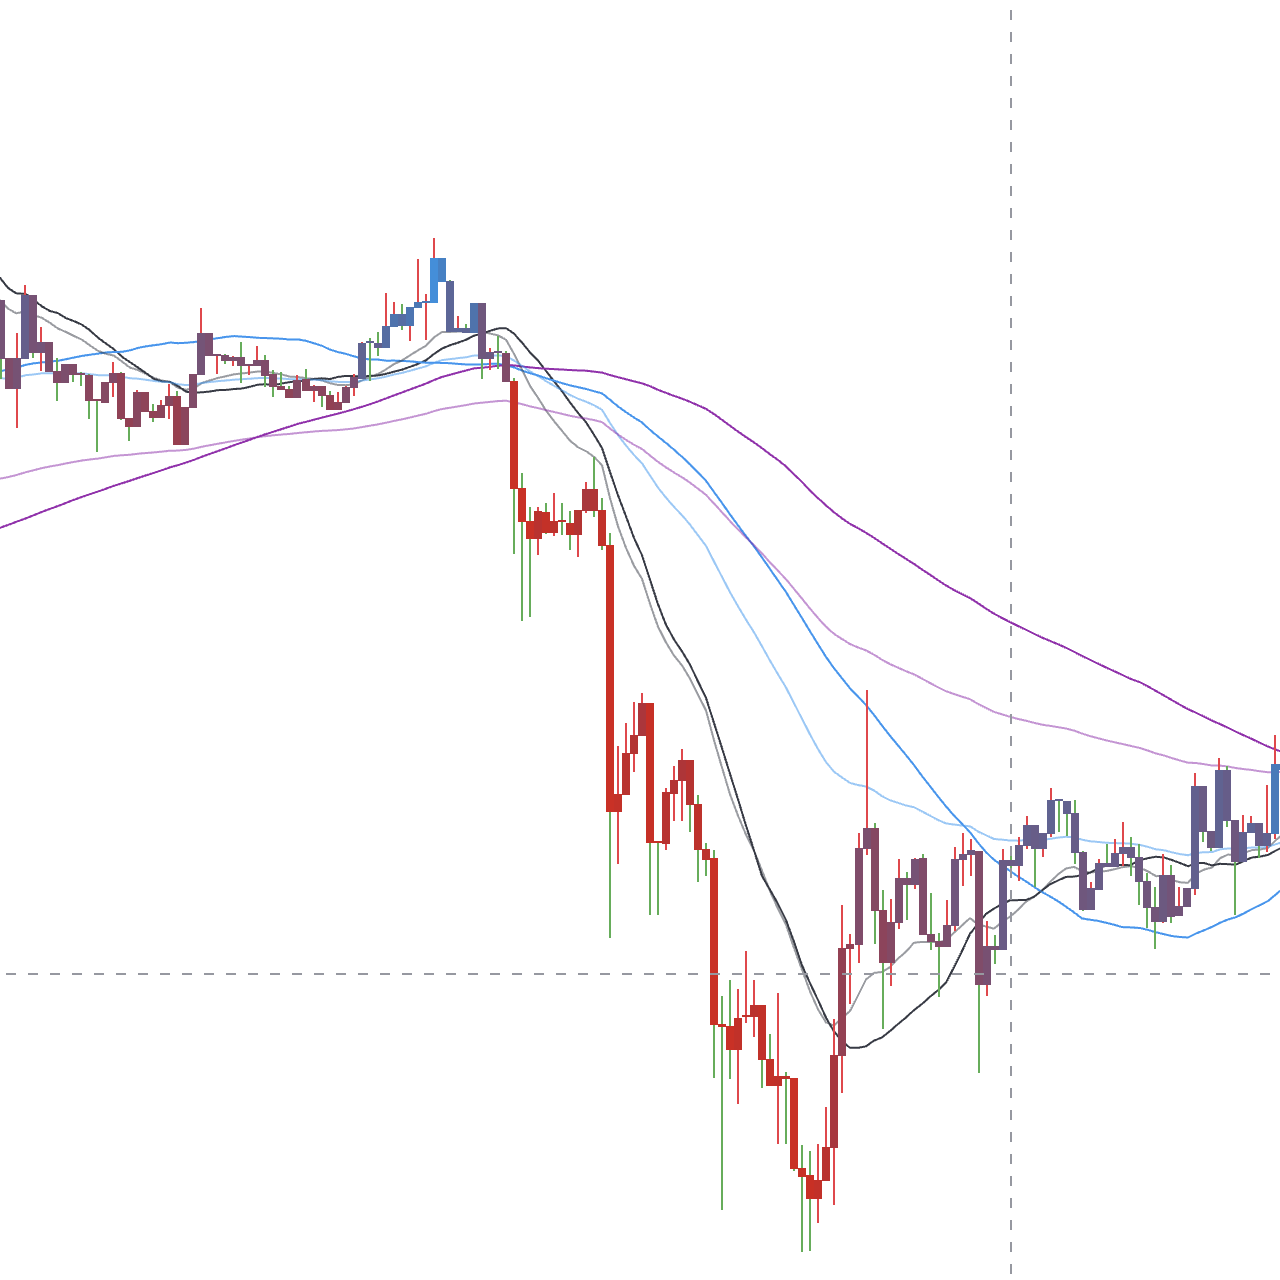ma_cluster: (433, 358, 644, 559)
